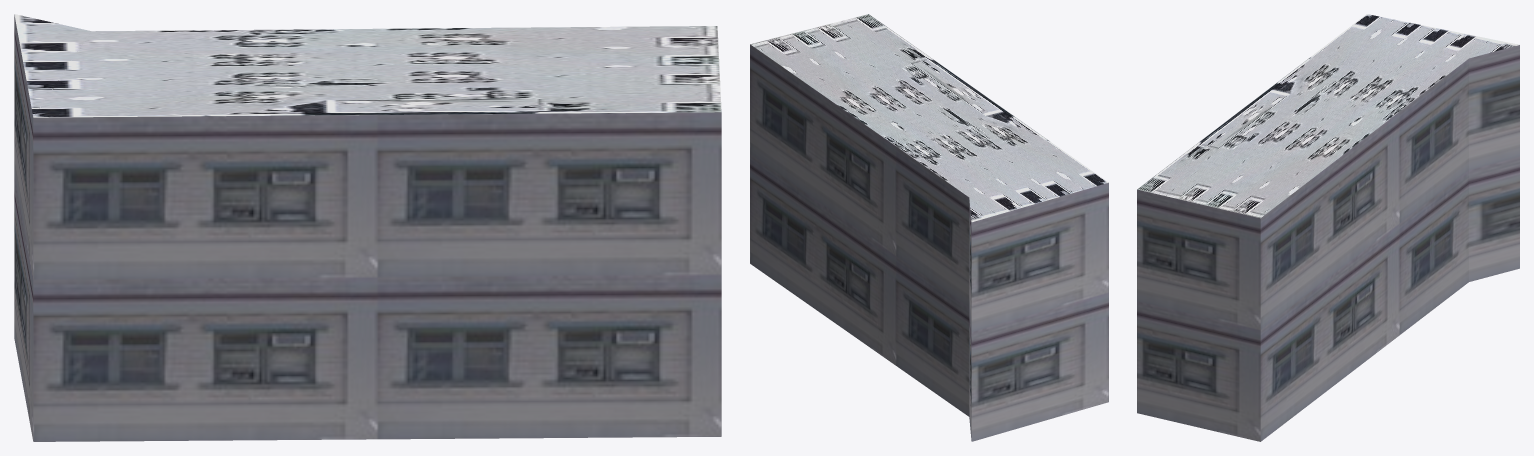
Rendered from ResTex__2859.fbx.
3 renders of one model, left to right at view 1: azimuth 30°, elevation 25°; view 2: azimuth 150°, elevation 25°; view 3: azimuth 270°, elevation 25°, orthographic. The views are drawn at different scales.
Visible parts, largest first — view 1: CityEngineMaterial_1_m, CityEngineMaterial_m; view 2: CityEngineMaterial_1_m, CityEngineMaterial_m; view 3: CityEngineMaterial_1_m, CityEngineMaterial_m.
Boxes of the visible parts, box(x1,y1,x2,y2) form: CityEngineMaterial_1_m: box(14, 15, 721, 441); CityEngineMaterial_m: box(14, 14, 721, 117); CityEngineMaterial_1_m: box(750, 44, 1108, 441); CityEngineMaterial_m: box(750, 14, 1108, 222); CityEngineMaterial_1_m: box(1137, 45, 1519, 441); CityEngineMaterial_m: box(1137, 14, 1519, 218).
Bounding box in the file's own units: 11.75 × 6 × 9.31.
2 materials, 2 textured.
